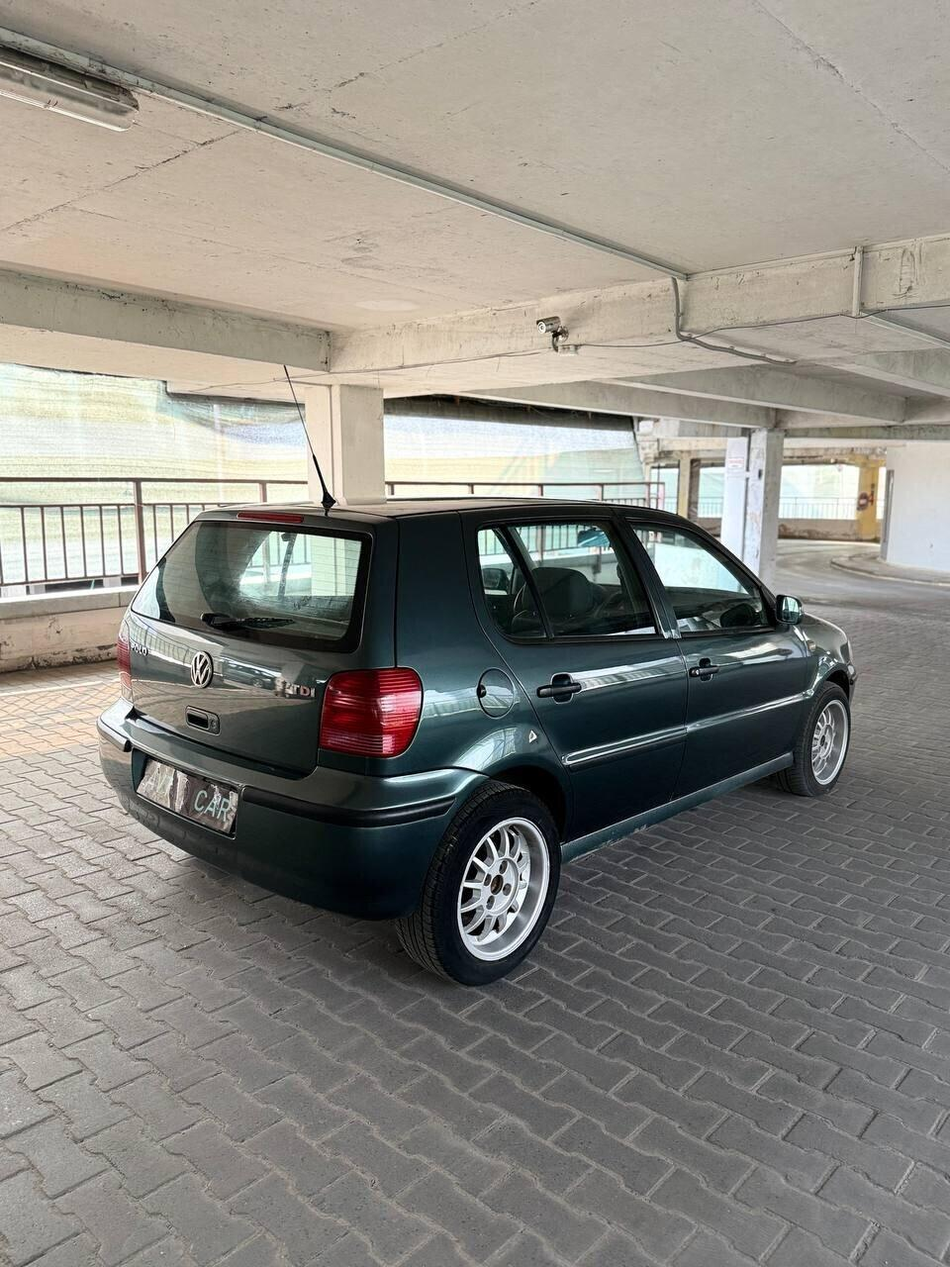Polo_2000-2002: (99, 466, 891, 1025)
